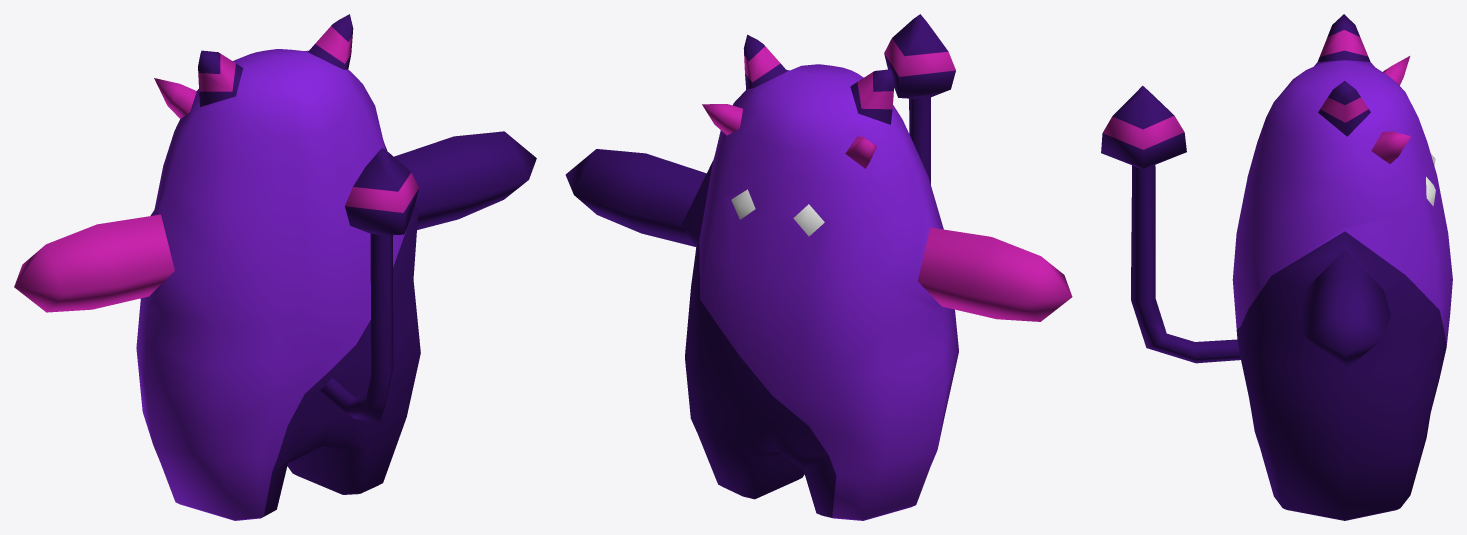
The model's file is AnaMartaSilva_Personagem_Versão2.fbx.
3 renders of one model, left to right at view 1: azimuth 30°, elevation 25°; view 2: azimuth 150°, elevation 25°; view 3: azimuth 270°, elevation 25°, orthographic. The views are drawn at different scales.
Visible parts, largest first — view 1: Personagem_Versão2; view 2: Personagem_Versão2; view 3: Personagem_Versão2.
Part boxes in pixels (<box>): Personagem_Versão2: <box>14,14,536,520</box>; Personagem_Versão2: <box>565,14,1072,520</box>; Personagem_Versão2: <box>1101,14,1452,520</box>.
Bounding box in the file's own units: 6.92 × 5.66 × 4.22.
